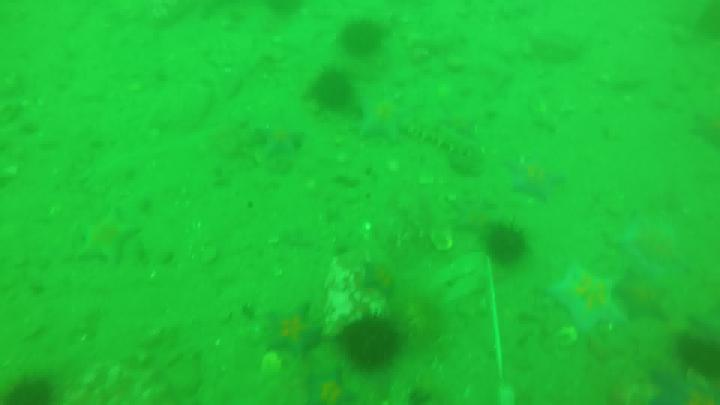echinus: (336, 318, 398, 368), (305, 66, 359, 108), (487, 225, 531, 268), (342, 17, 388, 56), (683, 332, 718, 382), (4, 381, 59, 405)
holothurian: (420, 118, 482, 161)
scallop: (433, 226, 454, 253)
starfish: (549, 263, 630, 337), (613, 211, 683, 280), (260, 307, 326, 359), (76, 212, 134, 268), (509, 152, 566, 205), (358, 98, 412, 143), (256, 116, 301, 160), (300, 371, 355, 405)
